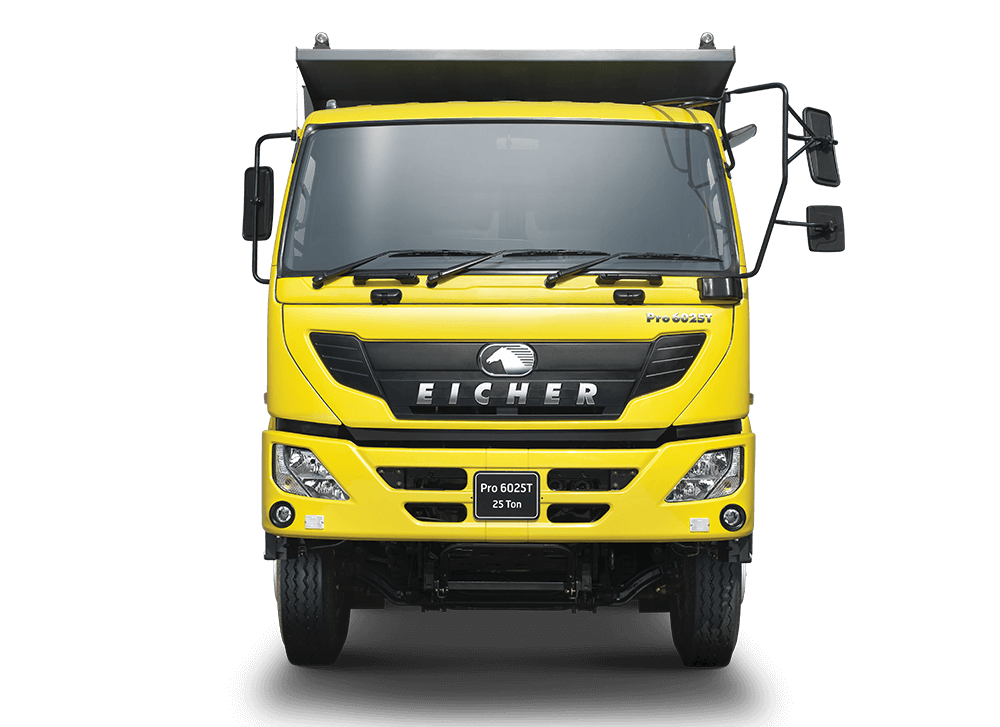truck: (241, 32, 844, 669)
